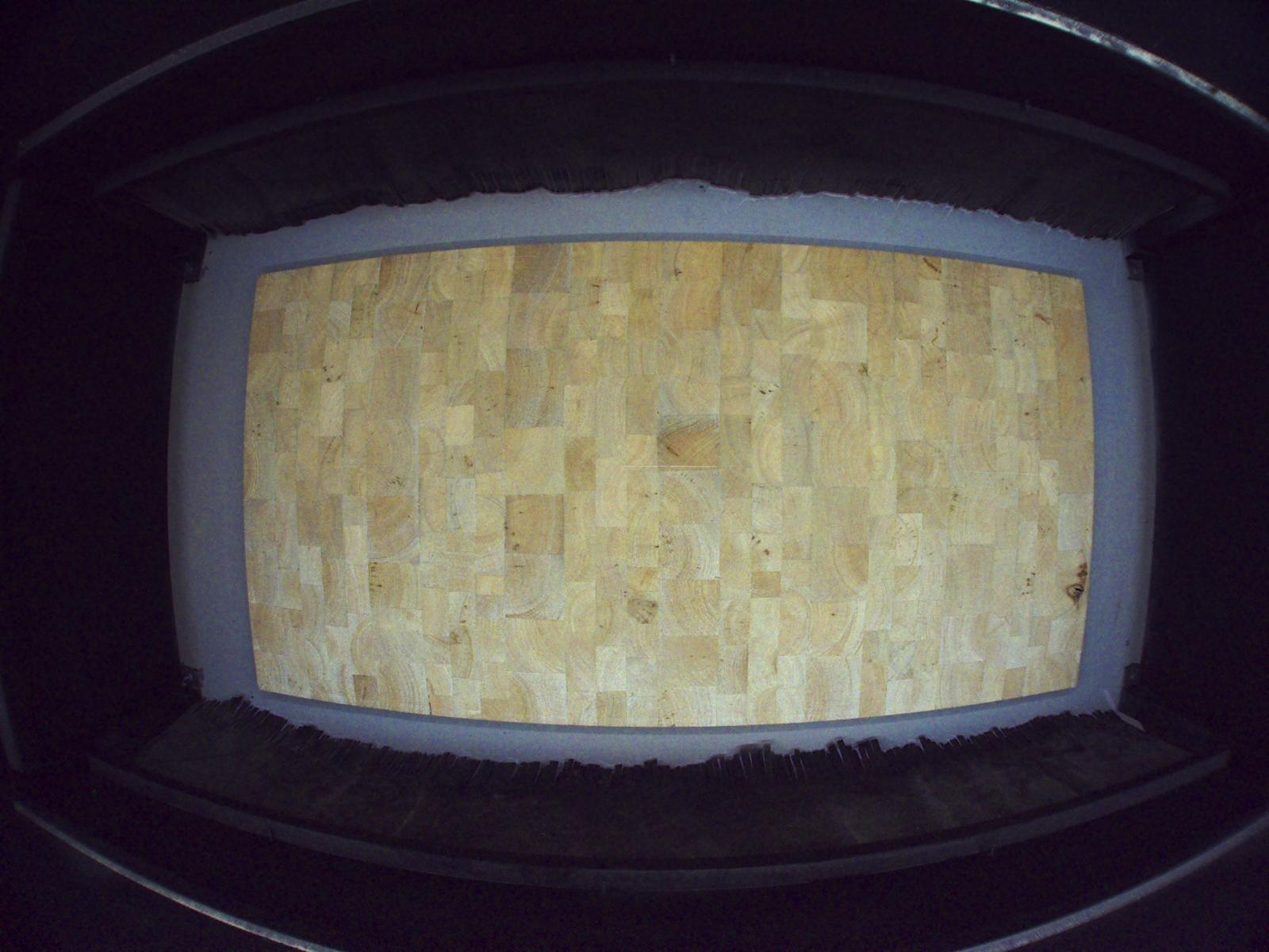nudillo: (1065, 582, 1085, 606)
